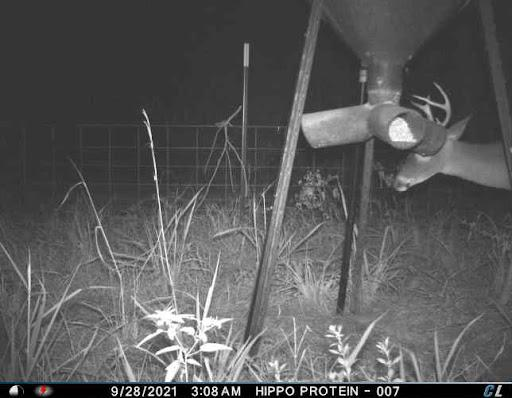Deer: (390, 77, 512, 206)
